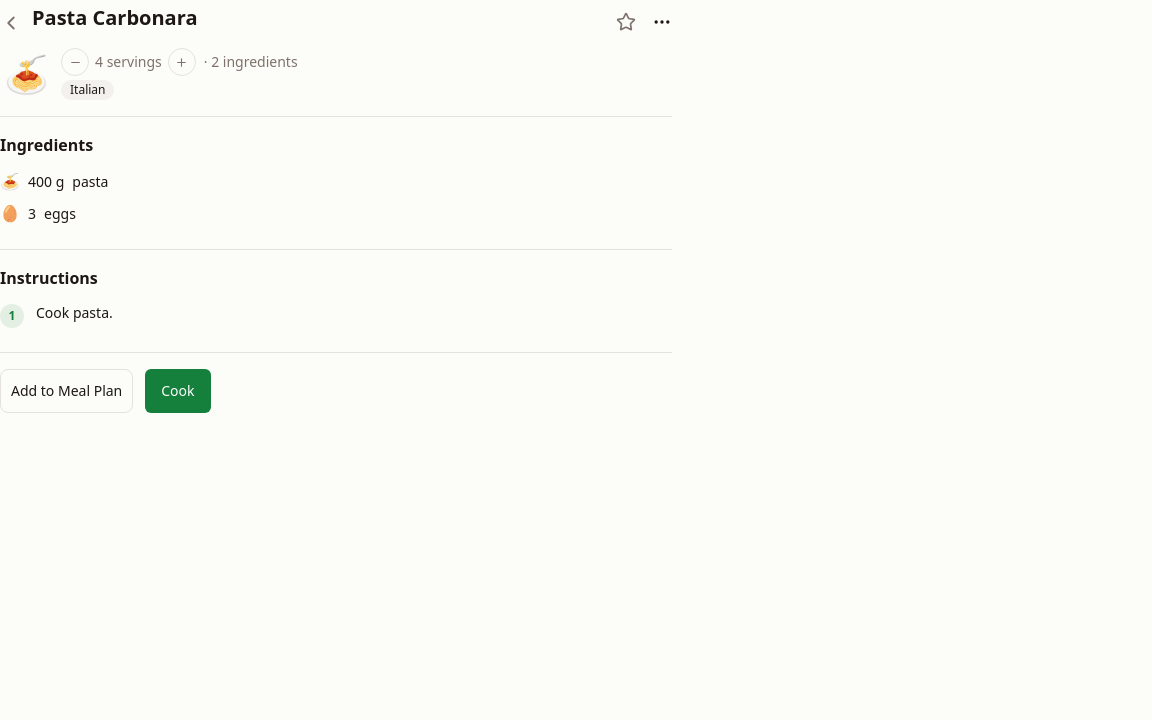
it: RecipeDetailPage — ⋯ actions menu › opens with Edit Recipe, Duplicate and Delete Recipe options
Check: the heading "Pasta Carbonara" is shown, box [32, 4, 198, 31]
Click the button named "More options": (662, 22) [642, 2, 682, 42]
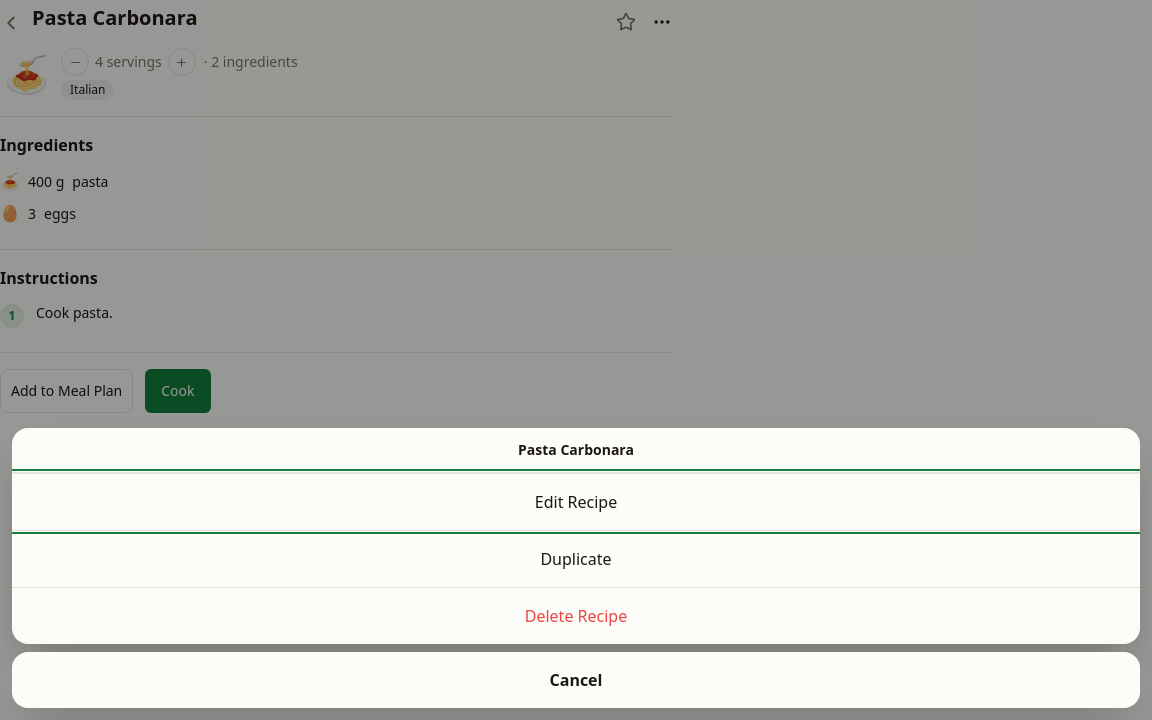
Check: the button "Edit Recipe" is shown, box [12, 473, 1140, 530]
Check: the button "Duplicate" is shown, box [12, 530, 1140, 587]
Check: the button "Delete Recipe" is shown, box [12, 587, 1140, 644]
